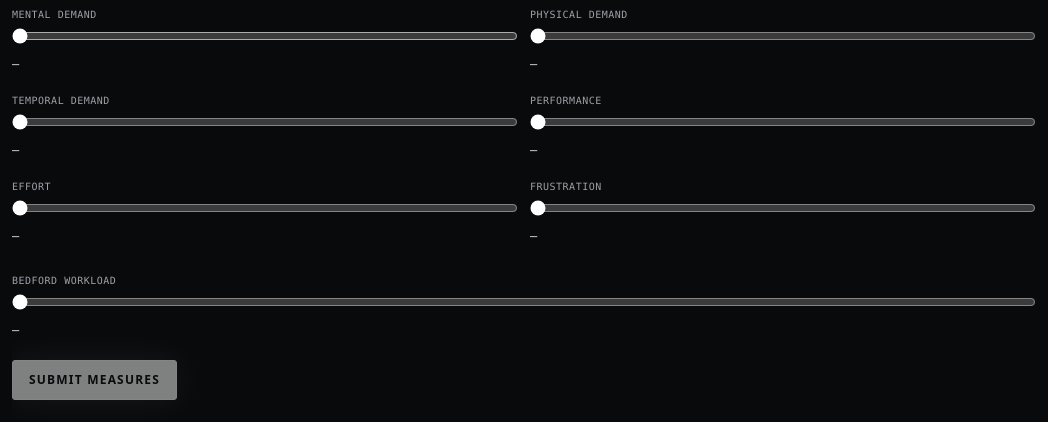
Test: research probe overlays › requires all TLX fields and Bedford before submission
Expected: the button "Submit measures" is disabled, [12, 360, 177, 400]
Set the slider labelled "Mental demand" to "5" at (265, 36), box [12, 28, 518, 44]
Set the slider labelled "Physical demand" to "5" at (783, 36), box [530, 28, 1036, 44]
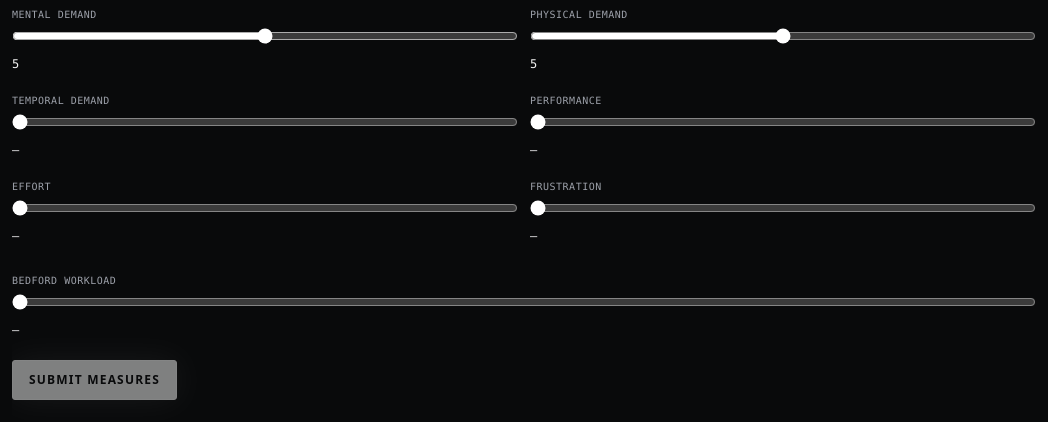
Set the slider labelled "Temporal demand" to "5" at (265, 122), box [12, 114, 518, 130]
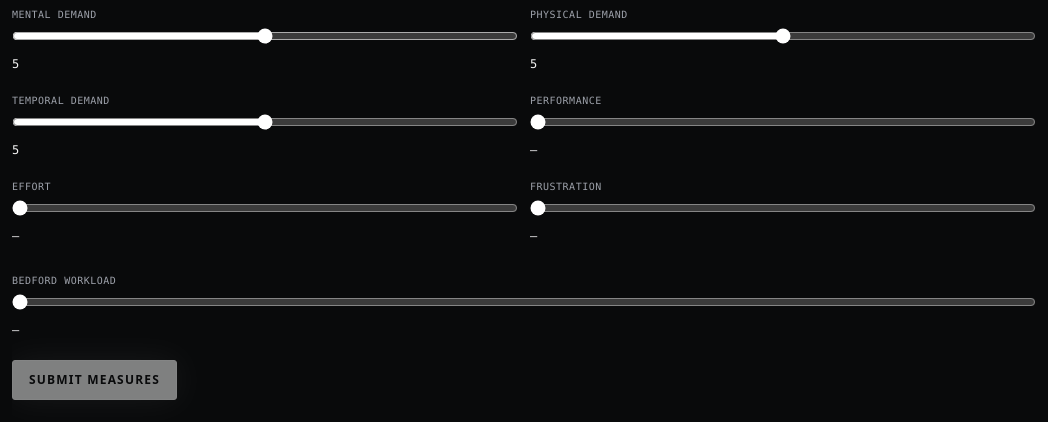
Set the slider labelled "Performance" to "5" at (783, 122), box [530, 114, 1036, 130]
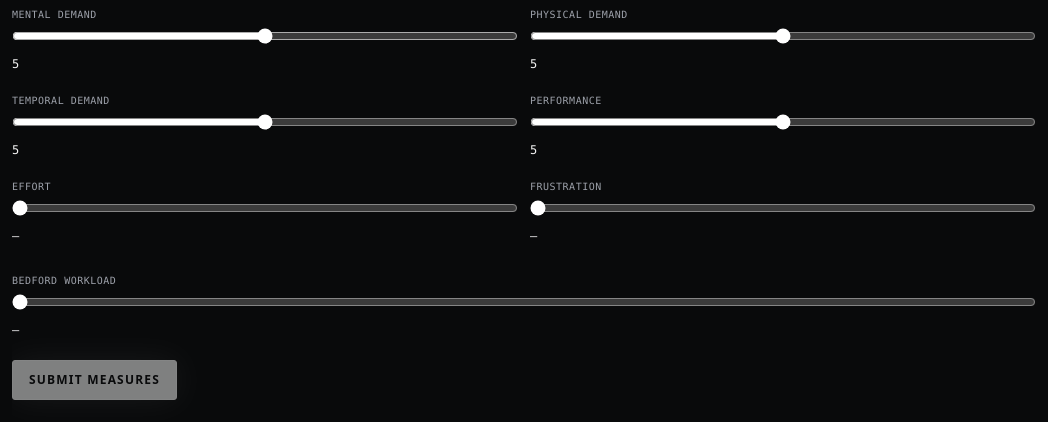
Set the slider labelled "Effort" to "5" at (265, 208), box [12, 200, 518, 216]
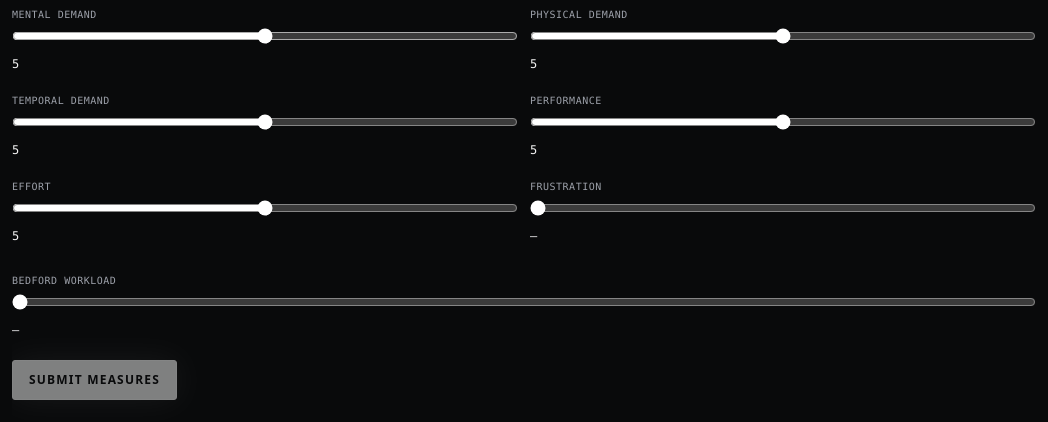
Set the slider labelled "Frustration" to "5" at (783, 208), box [530, 200, 1036, 216]
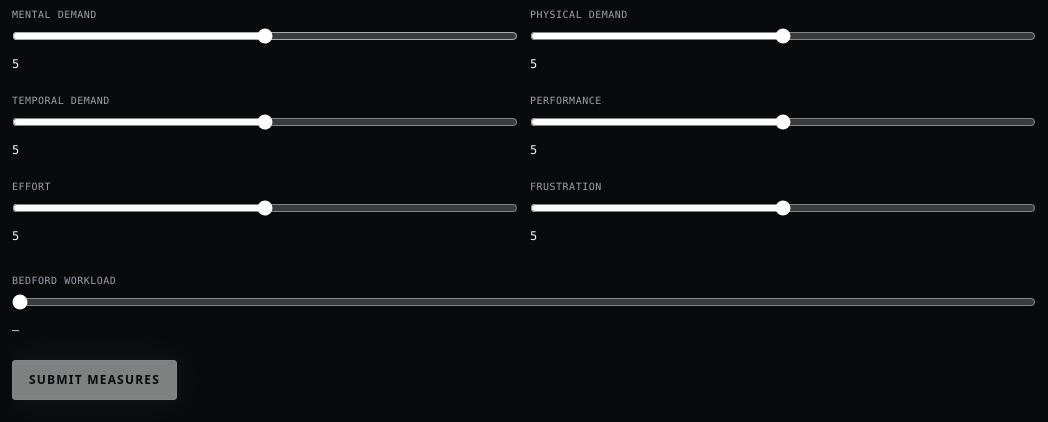
Set the slider labelled "Bedford" to "5" at (468, 302), box [12, 294, 1036, 310]
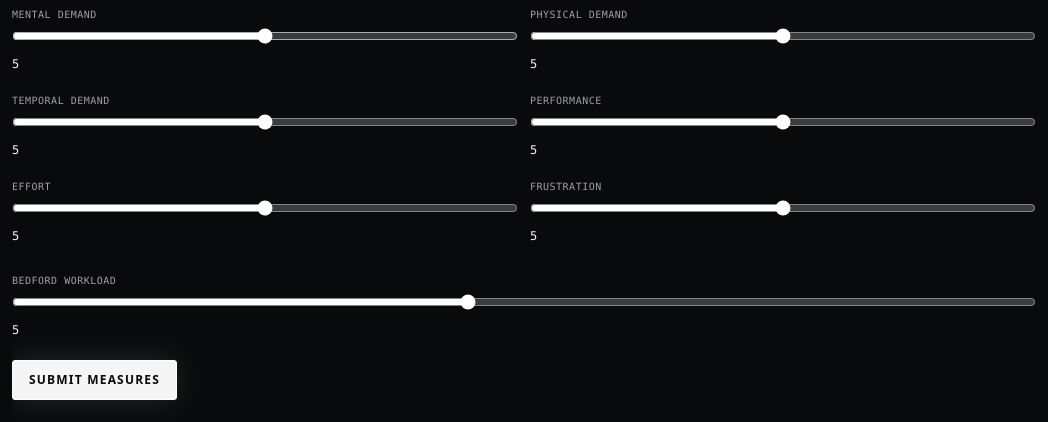
Expected: the button "Submit measures" is enabled, [12, 360, 177, 400]
